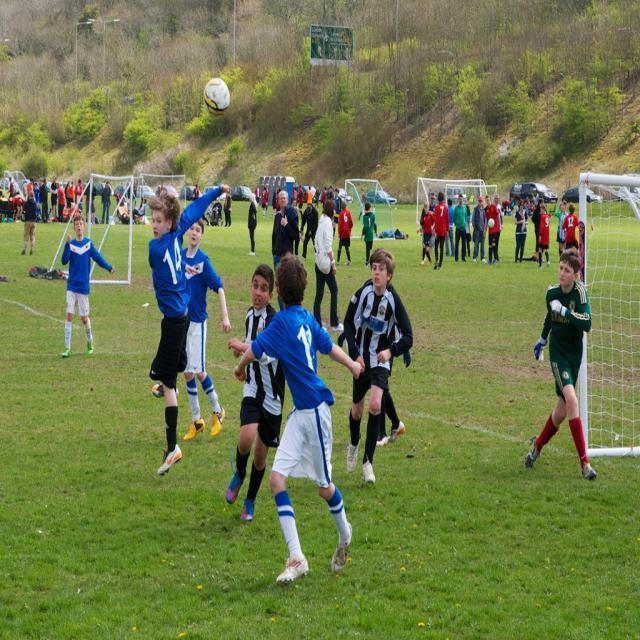football: (196, 68, 243, 114)
